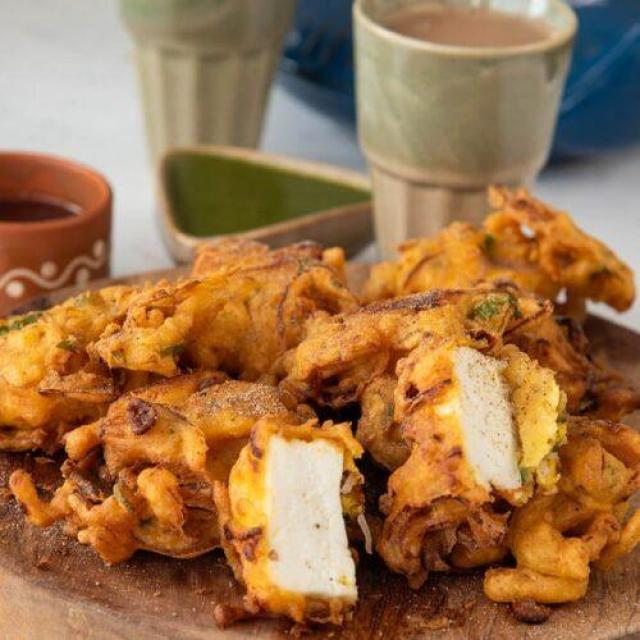BAJI: (0, 189, 639, 622)
